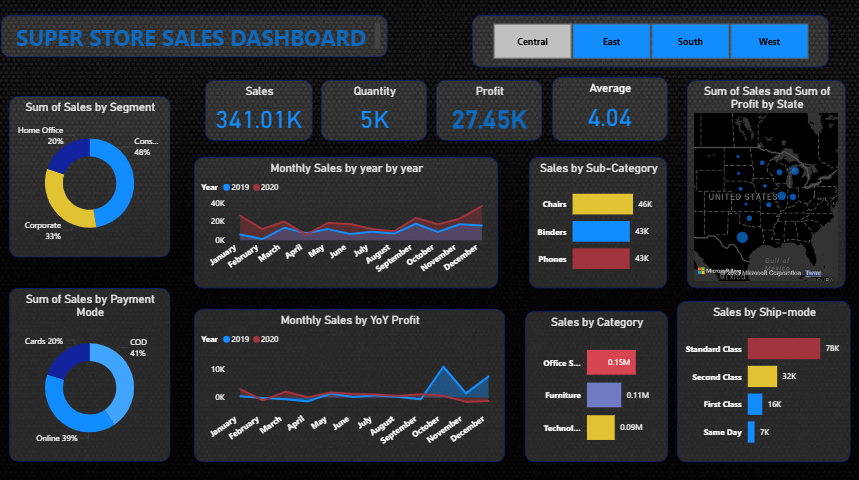

The dashboard page shown, as its layout file describes it:
{"tool":"powerbi","page":{"name":"Page 1","canvas":[1280,720],"ordinal":0},"visuals":[{"type":"barChart","title":"Sales by Category","fields":{"Category":["SuperStore_Sales_Dataset.Category"],"Y":["Sum(SuperStore_Sales_Dataset.Sales)"]},"box":[782.8,460.3,210,221.7],"z":0},{"type":"barChart","title":"Sales by Sub-Category","fields":{"Category":["SuperStore_Sales_Dataset.Sub-Category"],"Y":["Sum(SuperStore_Sales_Dataset.Sales)"]},"box":[789.5,233.5,203.3,193.2],"z":1000},{"type":"barChart","title":"Sales by Ship-mode","fields":{"Category":["SuperStore_Sales_Dataset.Ship Mode"],"Y":["Sum(SuperStore_Sales_Dataset.Sales)"]},"box":[1006.2,445.1,255.3,236.9],"z":2000},{"type":"areaChart","title":"Monthly Sales by year by year","fields":{"Category":["SuperStore_Sales_Dataset.Order Date.Variation.Date Hierarchy.Month","SuperStore_Sales_Dataset.Order Date.Variation.Date Hierarchy.Day"],"Y":["Sum(SuperStore_Sales_Dataset.Sales)"],"Series":["SuperStore_Sales_Dataset.Order Date.Variation.Date Hierarchy.Year"]},"box":[297.3,233.5,446.8,193.2],"z":3000},{"type":"areaChart","title":"Monthly Sales by YoY Profit","fields":{"Category":["SuperStore_Sales_Dataset.Order Date.Variation.Date Hierarchy.Month","SuperStore_Sales_Dataset.Order Date.Variation.Date Hierarchy.Day"],"Series":["SuperStore_Sales_Dataset.Order Date.Variation.Date Hierarchy.Year"],"Y":["Sum(SuperStore_Sales_Dataset.Profit)"]},"box":[297.3,456.9,456.9,225.1],"z":4000},{"type":"map","fields":{"Category":["SuperStore_Sales_Dataset.State"],"Size":["Sum(SuperStore_Sales_Dataset.Sales)"]},"box":[1021.3,120.9,233.5,305.7],"z":5000},{"type":"donutChart","fields":{"Category":["SuperStore_Sales_Dataset.Segment"],"Y":["Sum(SuperStore_Sales_Dataset.Sales)"]},"box":[25.2,144.5,236.9,236.9],"z":6000},{"type":"donutChart","fields":{"Category":["SuperStore_Sales_Dataset.Payment Mode"],"Y":["Sum(SuperStore_Sales_Dataset.Sales)"]},"box":[25.2,426.7,236.9,255.3],"z":7000},{"type":"slicer","fields":{"Values":["SuperStore_Sales_Dataset.Region"]},"box":[705.5,25.2,524.1,77.3],"z":8000},{"type":"textbox","box":[13.4,25.2,567.8,62.2],"z":9000},{"type":"card","title":"Sales","fields":{"Values":["Sum(SuperStore_Sales_Dataset.Sales)"]},"box":[312.4,120.9,157.9,89],"z":10000},{"type":"card","title":"Quantity","fields":{"Values":["Sum(SuperStore_Sales_Dataset.Quantity)"]},"box":[483.8,120.9,156.2,89],"z":11000},{"type":"card","title":"Profit","fields":{"Values":["Sum(SuperStore_Sales_Dataset.Profit)"]},"box":[651.8,120.9,156.2,89],"z":12000},{"type":"card","title":"Average","fields":{"Values":["Avg(SuperStore_Sales_Dataset.AvgDelivery)"]},"box":[823.1,115.9,169.7,94.1],"z":13000}]}

Visuals, with their boxes in screenshot pixels (x1, y1, x2, y2), scaled from the page's 1280x720 canvas onto the 859x480 screenshot:
"Sales by Category" barChart: x1=525 y1=307 x2=666 y2=455
"Sales by Sub-Category" barChart: x1=530 y1=156 x2=666 y2=284
"Sales by Ship-mode" barChart: x1=675 y1=297 x2=847 y2=455
"Monthly Sales by year by year" areaChart: x1=200 y1=156 x2=499 y2=284
"Monthly Sales by YoY Profit" areaChart: x1=200 y1=305 x2=506 y2=455
map - SuperStore_Sales_Dataset.State x Sum(SuperStore_Sales_Dataset.Sales): x1=685 y1=81 x2=842 y2=284
donutChart - SuperStore_Sales_Dataset.Segment x Sum(SuperStore_Sales_Dataset.Sales): x1=17 y1=96 x2=176 y2=254
donutChart - SuperStore_Sales_Dataset.Payment Mode x Sum(SuperStore_Sales_Dataset.Sales): x1=17 y1=284 x2=176 y2=455
slicer - SuperStore_Sales_Dataset.Region: x1=473 y1=17 x2=825 y2=68
textbox: x1=9 y1=17 x2=390 y2=58
"Sales" card: x1=210 y1=81 x2=316 y2=140
"Quantity" card: x1=325 y1=81 x2=430 y2=140
"Profit" card: x1=437 y1=81 x2=542 y2=140
"Average" card: x1=552 y1=77 x2=666 y2=140
